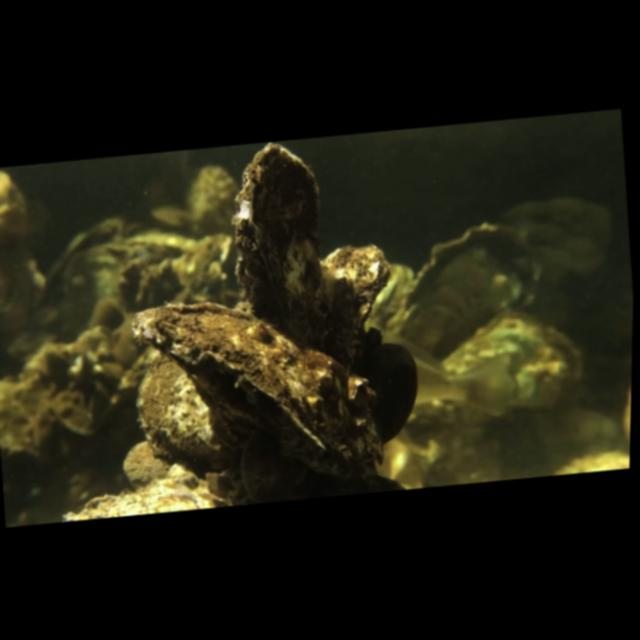Oyster-Closed: (127, 296, 388, 472), (228, 142, 344, 354), (323, 238, 396, 370)
Oyster-Indeterminate: (415, 304, 593, 427), (128, 357, 274, 469)
